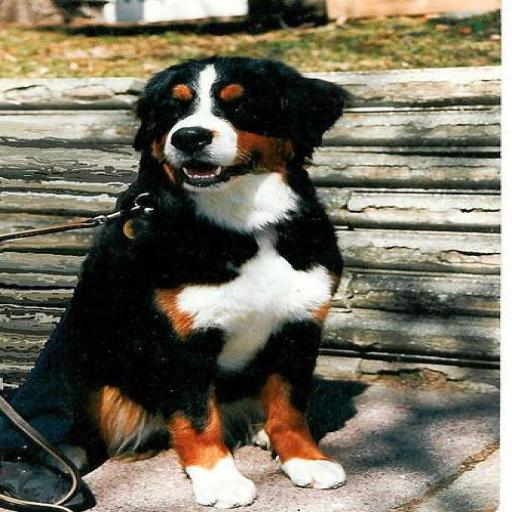dog_face: (120, 56, 334, 189)
